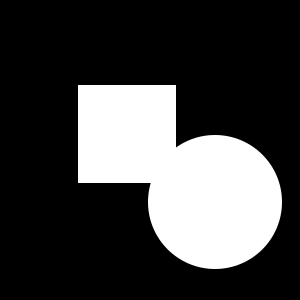circle: (78, 85, 176, 183)
rectangle: (148, 135, 282, 269)
